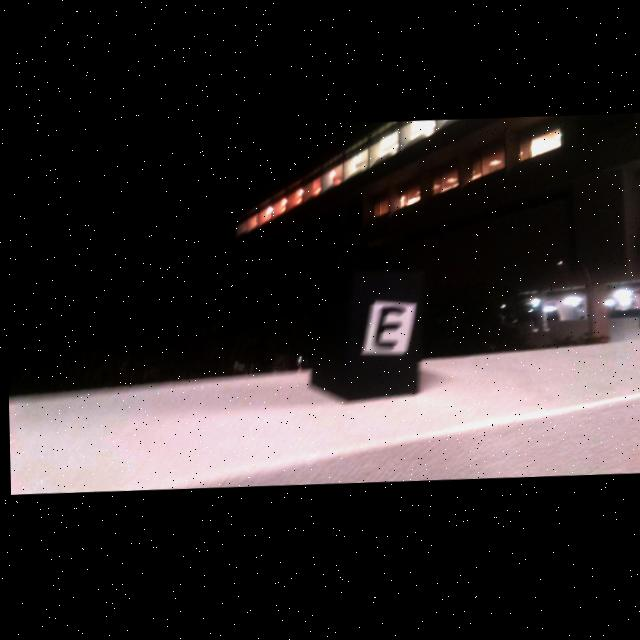E: (372, 310, 404, 352)
